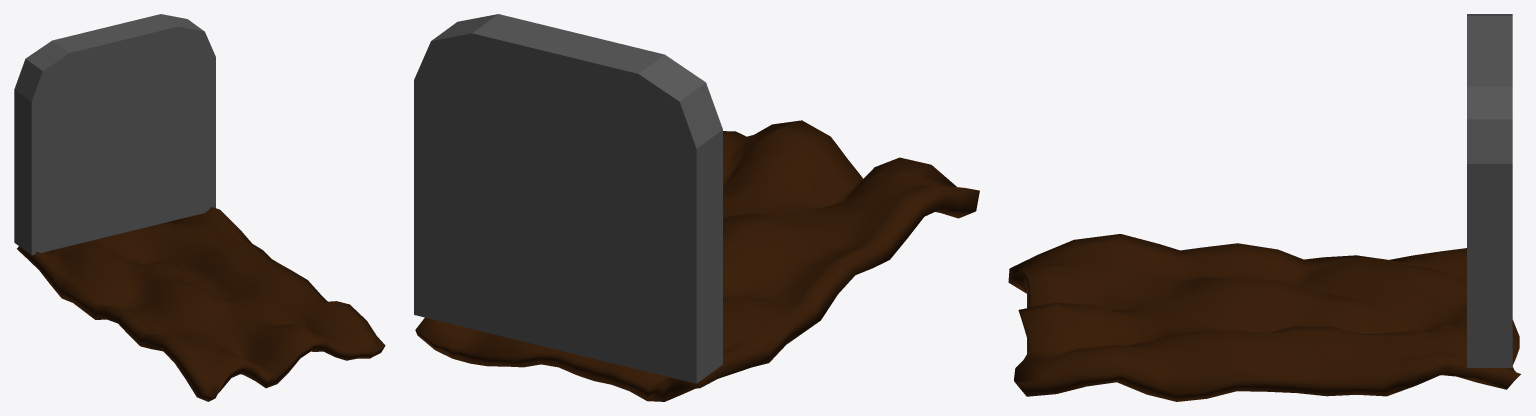
File: Grave.fbx
3 renders of one model, left to right at view 1: azimuth 30°, elevation 25°; view 2: azimuth 150°, elevation 25°; view 3: azimuth 270°, elevation 25°, orthographic. The views are drawn at different scales.
Parts seen in each view (by area): view 1: Cube, Plane; view 2: Cube, Plane; view 3: Plane, Cube.
Part boxes in pixels (box(x1,y1,x2,y2)): Cube: box(14, 14, 215, 255); Plane: box(17, 207, 385, 401); Cube: box(414, 14, 722, 383); Plane: box(415, 120, 979, 401); Plane: box(1008, 234, 1520, 401); Cube: box(1467, 14, 1512, 367).
Size of the model in its own units: 57.57 by 63.97 by 99.22.
